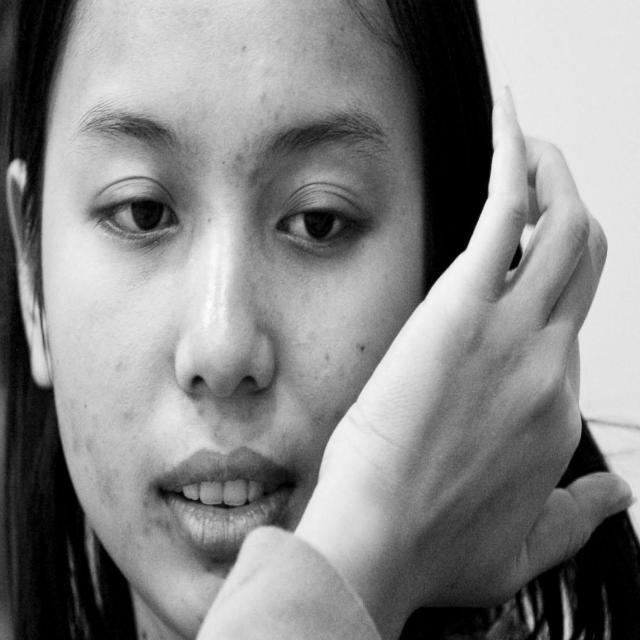no-glass: (78, 178, 376, 254)
